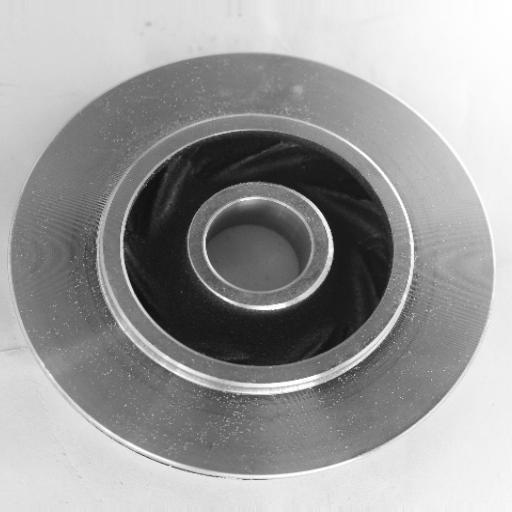polished_casting: (10, 51, 497, 481)
